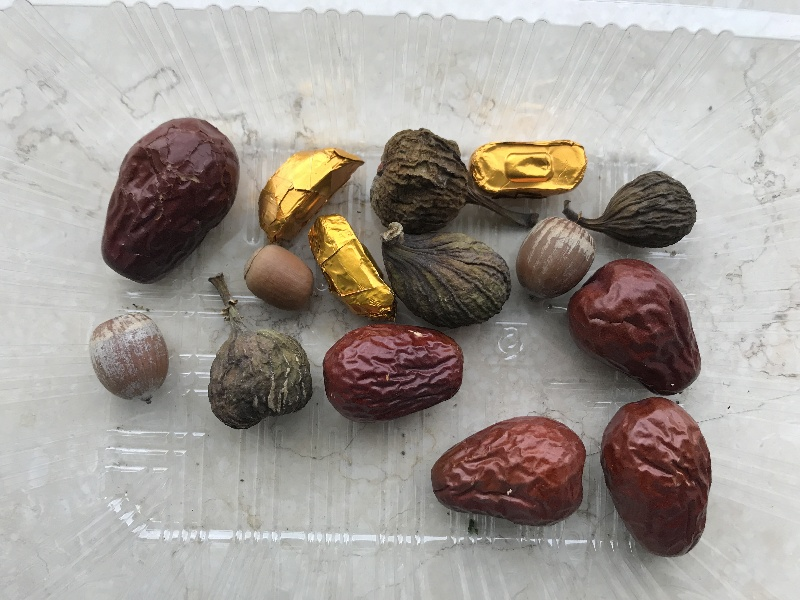date: (101, 117, 240, 286), (599, 396, 712, 558), (566, 261, 703, 394), (430, 415, 586, 527), (322, 321, 463, 422)
fig: (368, 127, 541, 232), (208, 274, 313, 430), (376, 223, 510, 328), (563, 169, 699, 250)
hazelnut: (87, 313, 171, 406), (513, 218, 595, 304), (245, 243, 316, 314)
